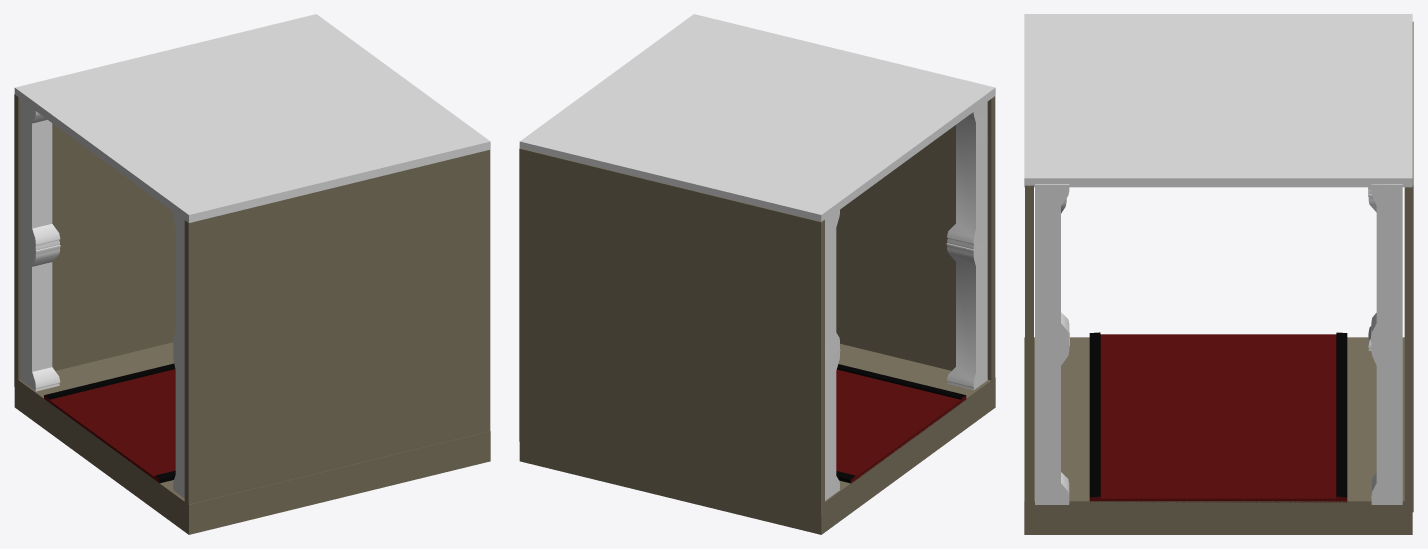
Rendered from Strate.fbx.
3 renders of one model, left to right at view 1: azimuth 30°, elevation 25°; view 2: azimuth 150°, elevation 25°; view 3: azimuth 270°, elevation 25°, orthographic. The views are drawn at different scales.
Parts seen in each view (by area): view 1: 立方体.003; view 2: 立方体.003; view 3: 立方体.003.
Part boxes in pixels (bbox=[...]): 立方体.003: bbox=[14, 14, 490, 534]; 立方体.003: bbox=[519, 14, 995, 534]; 立方体.003: bbox=[1024, 14, 1413, 534].
Size of the model in its own units: 2007 by 2027 by 2005.
